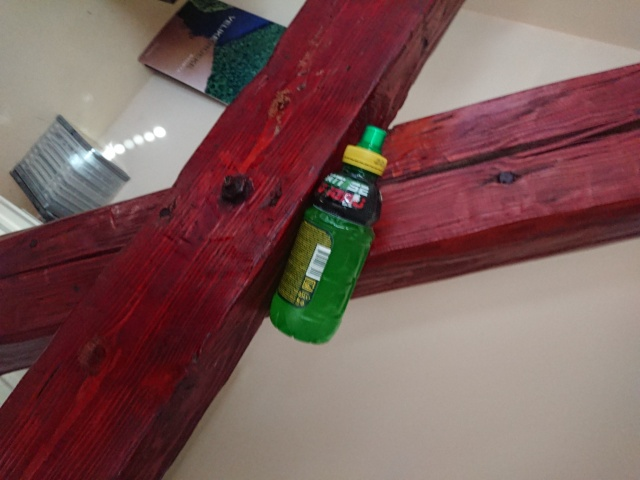Vindi Iso Sport Lemon-Grapefruit 500mL: (266, 122, 390, 347)
